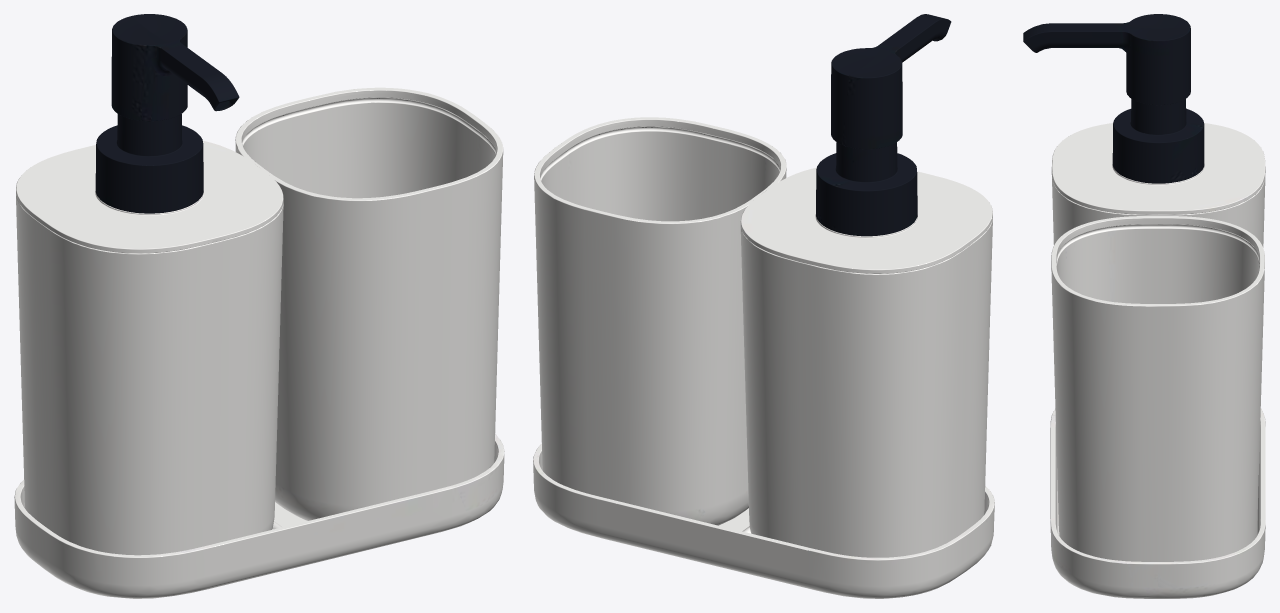
Rendered from storavan_komplet_azienkowy_3_szt_70429003.glb.
3 renders of one model, left to right at view 1: azimuth 30°, elevation 25°; view 2: azimuth 150°, elevation 25°; view 3: azimuth 270°, elevation 25°, orthographic. The views are drawn at different scales.
Parts seen in each view (by area): view 1: storavan_komplet_azienkowy_3_szt_70429003; view 2: storavan_komplet_azienkowy_3_szt_70429003; view 3: storavan_komplet_azienkowy_3_szt_70429003.
Part boxes in pixels (bbox=[...]): storavan_komplet_azienkowy_3_szt_70429003: bbox=[14, 14, 504, 598]; storavan_komplet_azienkowy_3_szt_70429003: bbox=[533, 14, 994, 598]; storavan_komplet_azienkowy_3_szt_70429003: bbox=[1023, 14, 1265, 598].
Size of the model in its own units: 0.1478 by 0.1671 by 0.0831.
1 material, 1 textured.
